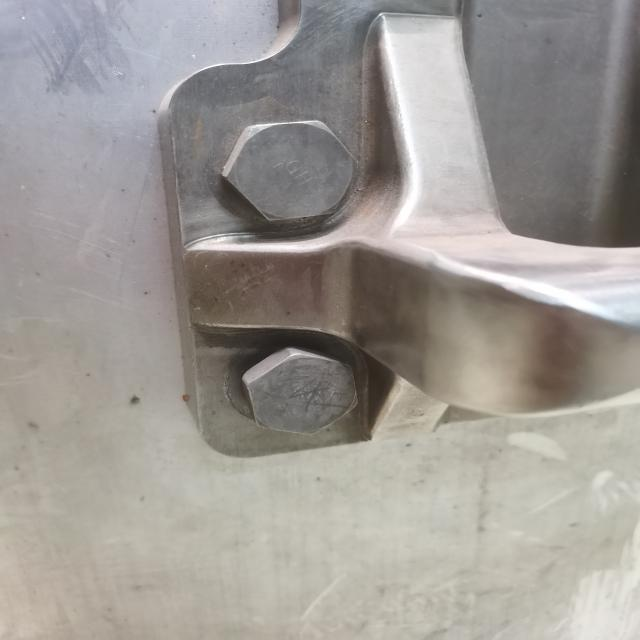bolt head: (218, 117, 359, 225), (240, 344, 359, 436)
